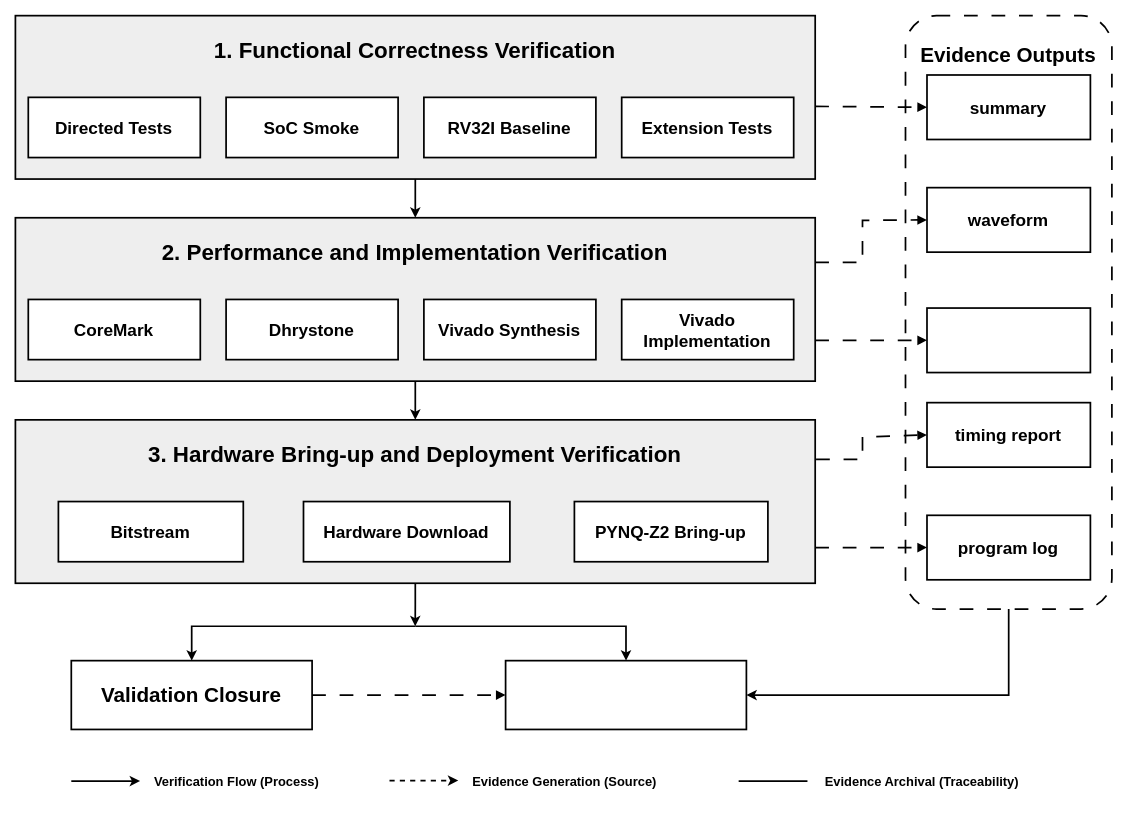
Image size: 1127x817. Some labels were removed from this diagram. Here are the shapes that lost their labels. From the top down, the centre of each, then its label:
At [1008,340]: "utilization report".
At [625,694]: "Evidence Archive".
